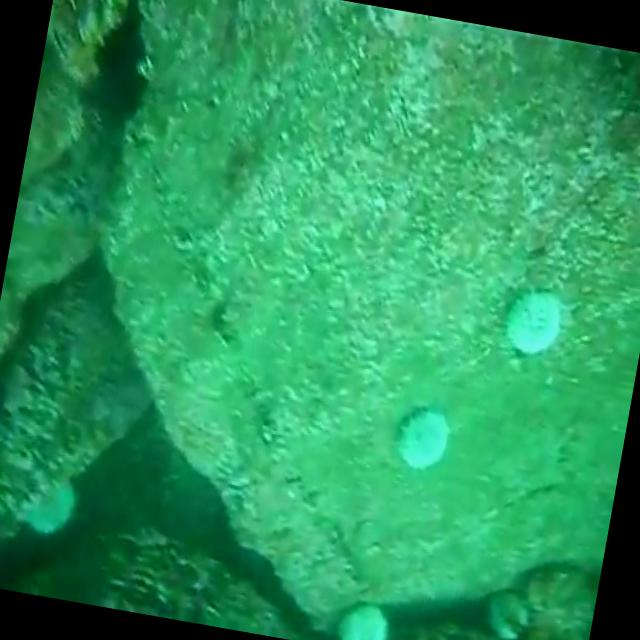Deniz Kestanesi: (390, 400, 460, 476), (496, 285, 564, 362), (12, 468, 80, 544), (332, 594, 393, 640)
